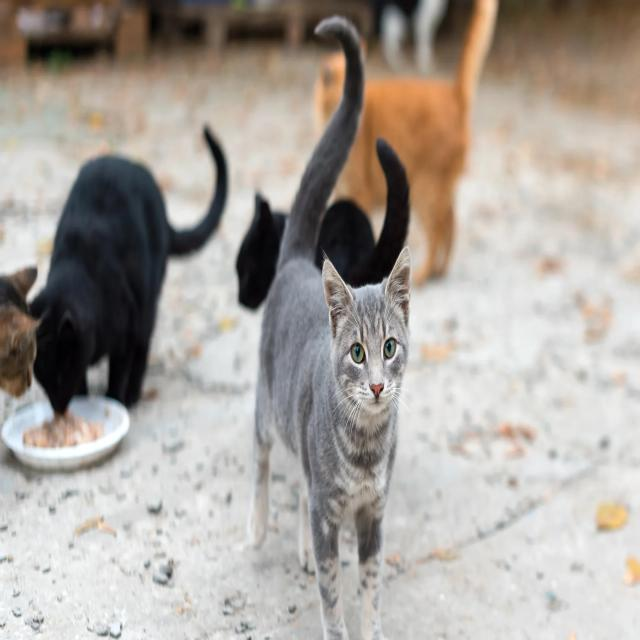cat: (248, 18, 411, 638), (30, 127, 228, 413), (315, 138, 409, 287), (236, 193, 288, 309), (0, 267, 41, 396)
